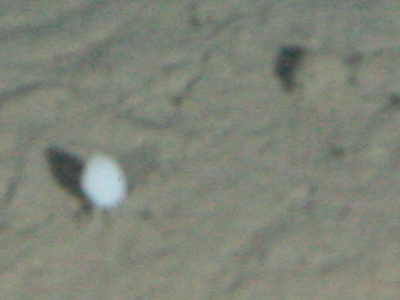FOO: (55, 145, 150, 220)
